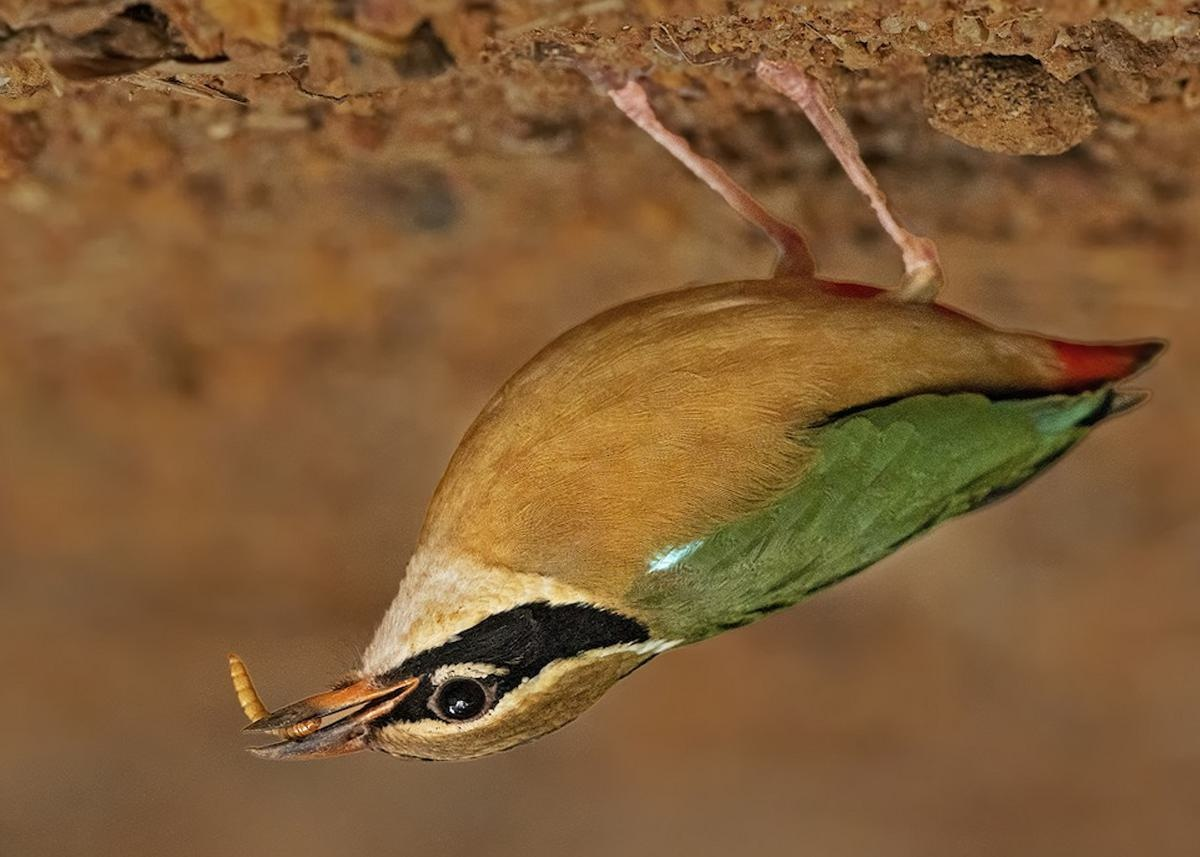pitta: (176, 120, 1125, 796)
